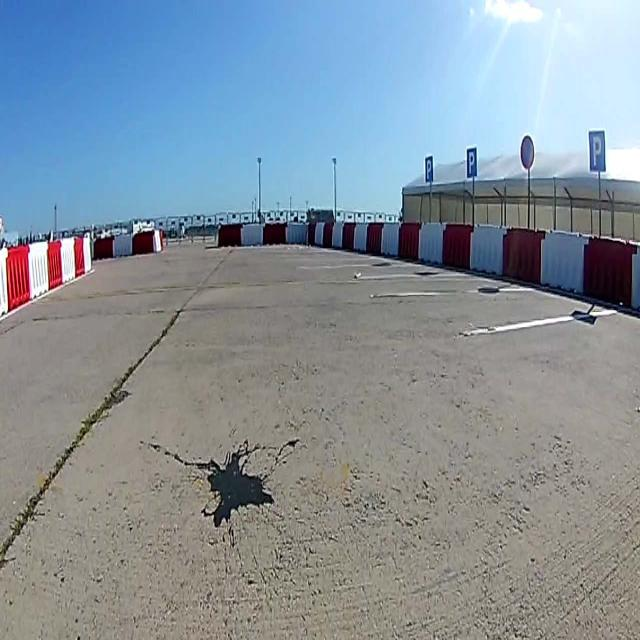park: (588, 128, 606, 172), (466, 148, 478, 178), (424, 156, 434, 184)
parkyasak: (520, 135, 534, 170)
